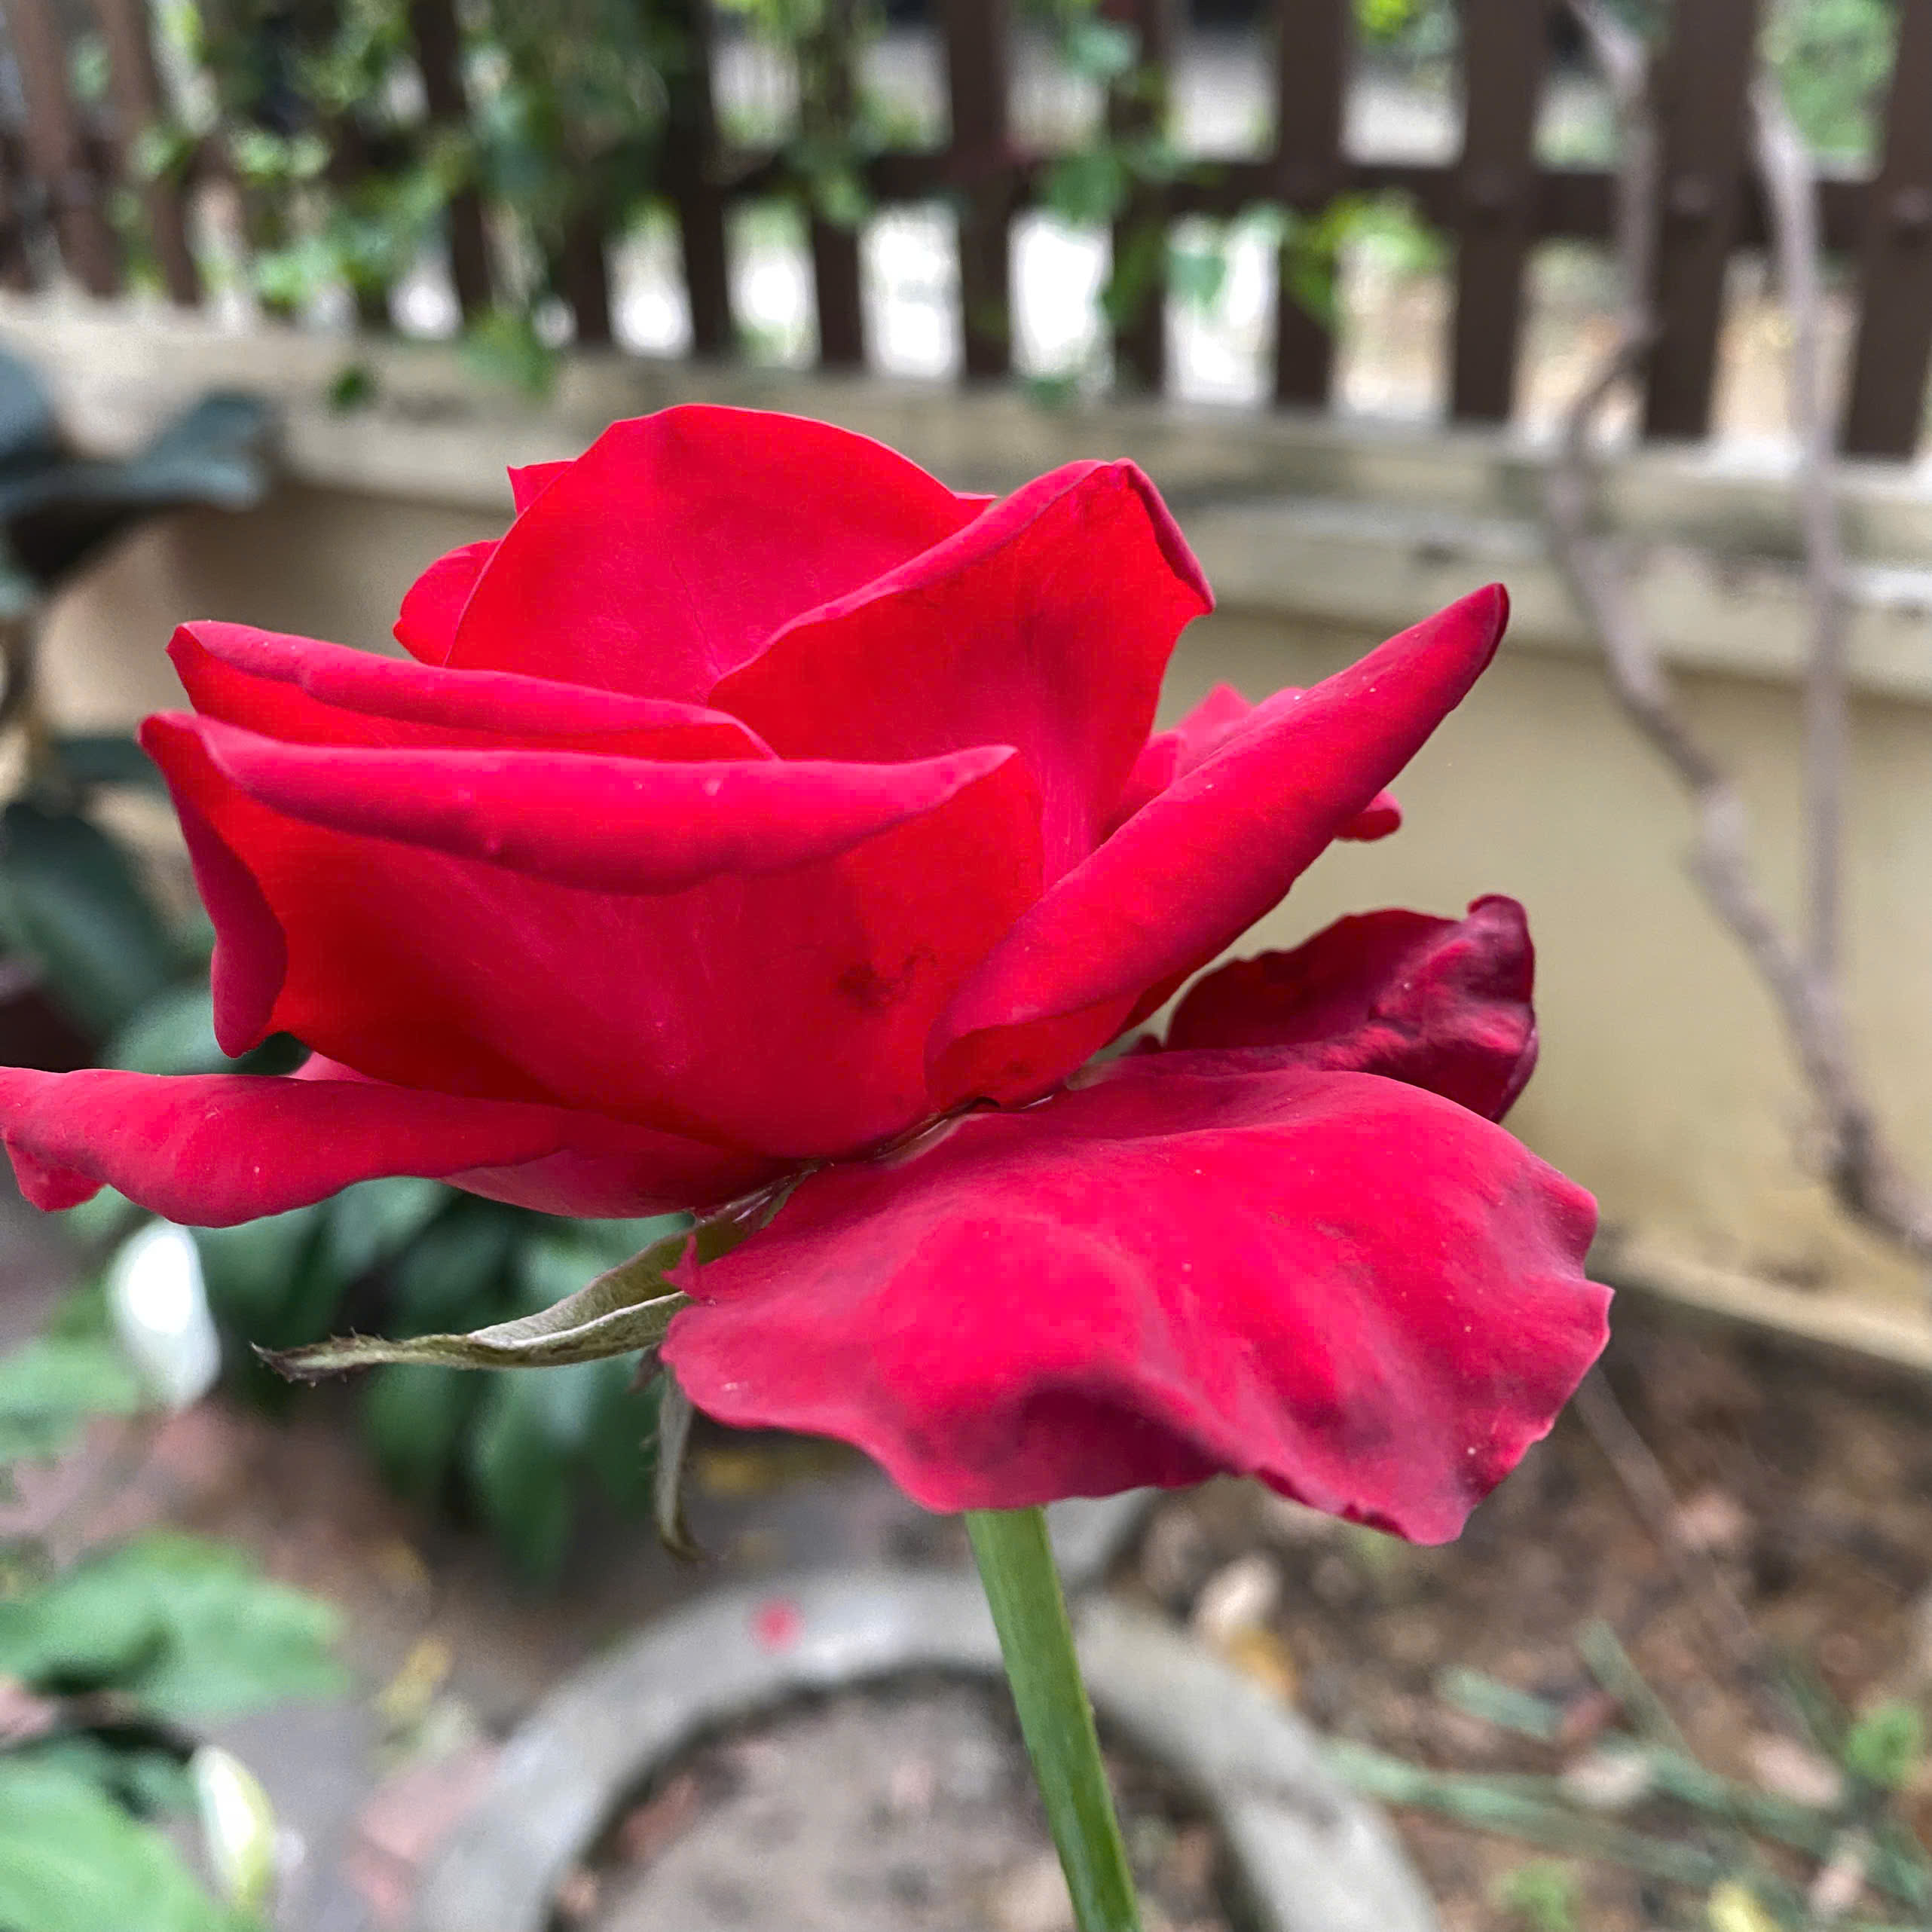hoa_hong_do: (0, 419, 1711, 1911)
